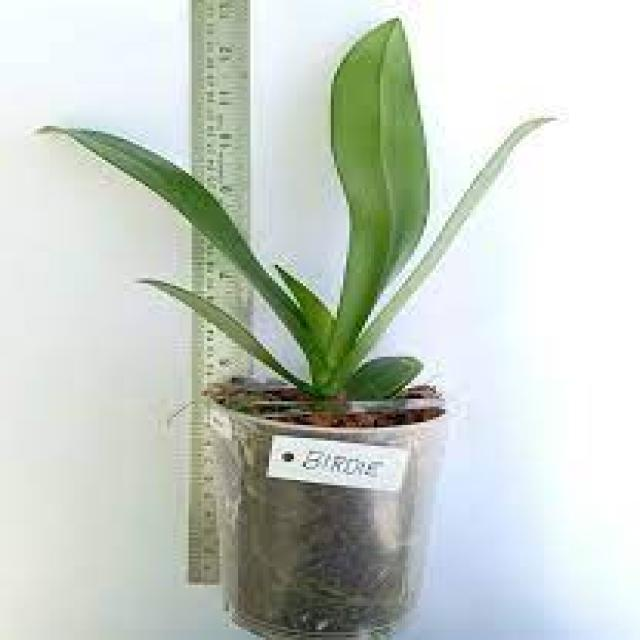leaf: (90, 159, 332, 373), (355, 114, 551, 361), (45, 124, 275, 297), (329, 13, 427, 298), (146, 280, 314, 390), (346, 354, 425, 403)
plant: (29, 6, 581, 626)
pot: (191, 321, 465, 637)
